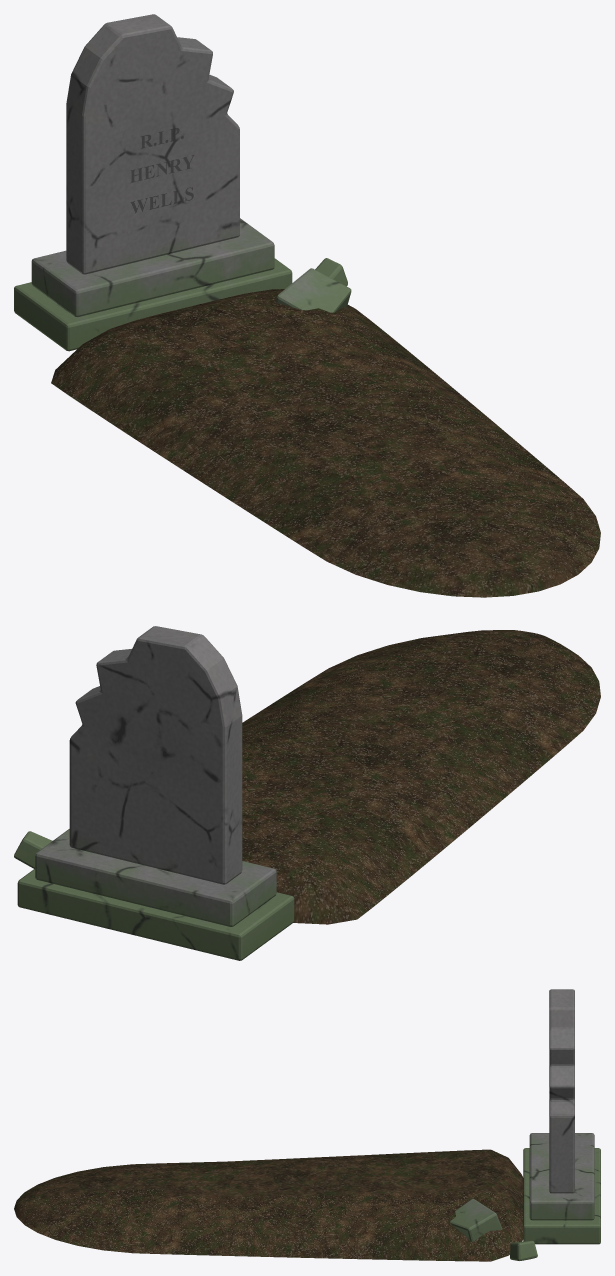
Rendered from gravestone_arch_broken_a.glb.
3 renders of one model, top to bottom at view 1: azimuth 30°, elevation 25°; view 2: azimuth 150°, elevation 25°; view 3: azimuth 270°, elevation 25°, orthographic. The views are drawn at different scales.
Parts seen in each view (by area): view 1: gravestone_arch_broken_a; view 2: gravestone_arch_broken_a; view 3: gravestone_arch_broken_a.
Boxes of the visible parts, box(x1,y1,x2,y2) form: gravestone_arch_broken_a: box(14, 14, 600, 597); gravestone_arch_broken_a: box(14, 626, 600, 960); gravestone_arch_broken_a: box(14, 989, 600, 1261).
Bounding box in the file's own units: 1.21 × 1.09 × 2.72.
2 materials, 2 textured.
